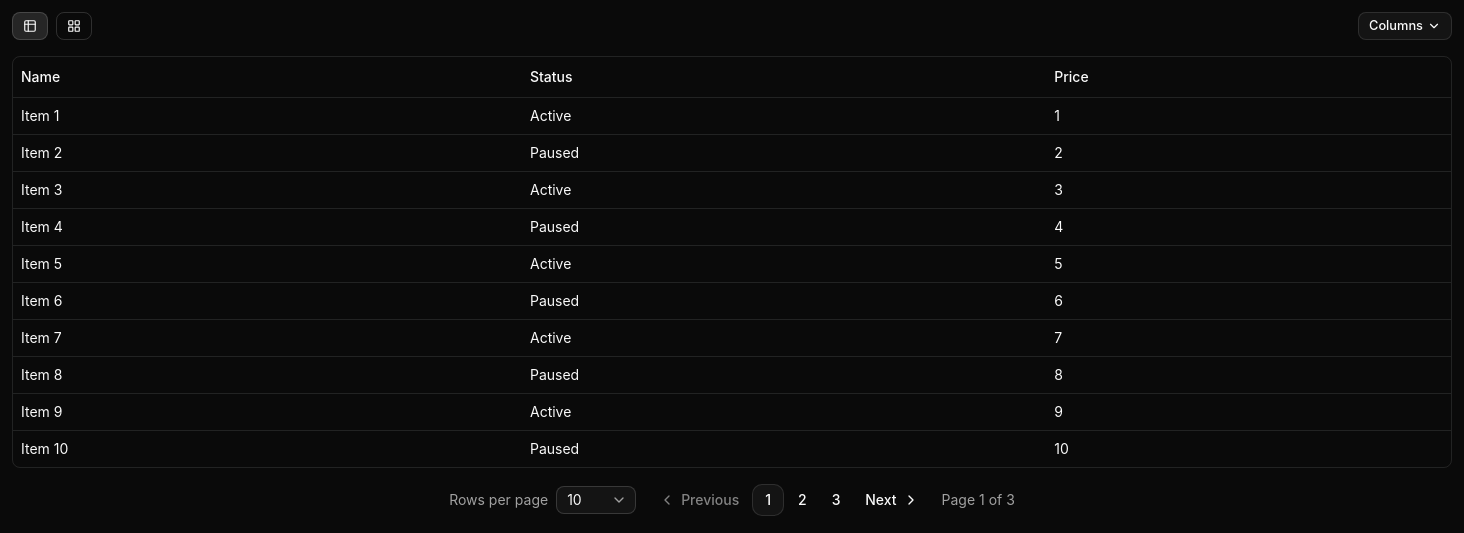
CollectionView › toggles table columns from the Columns menu
Expected: the column heading "Status" is shown, [522,57,1046,97]
# Base UI menus don't respond to userEvent's pointer sequence in jsdom.
Click the button "Columns" at coordinates (1405, 26), box [1358,12,1452,40]
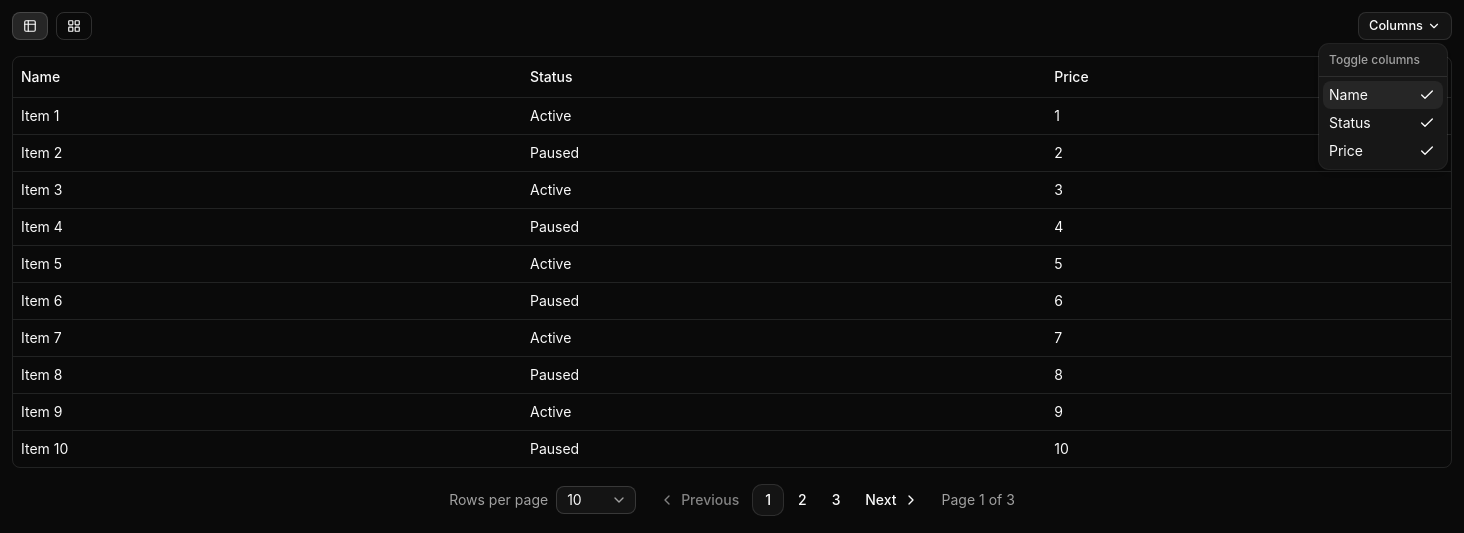
Click the menu item "Status" at coordinates (1350, 122), box [1323,109,1443,137]
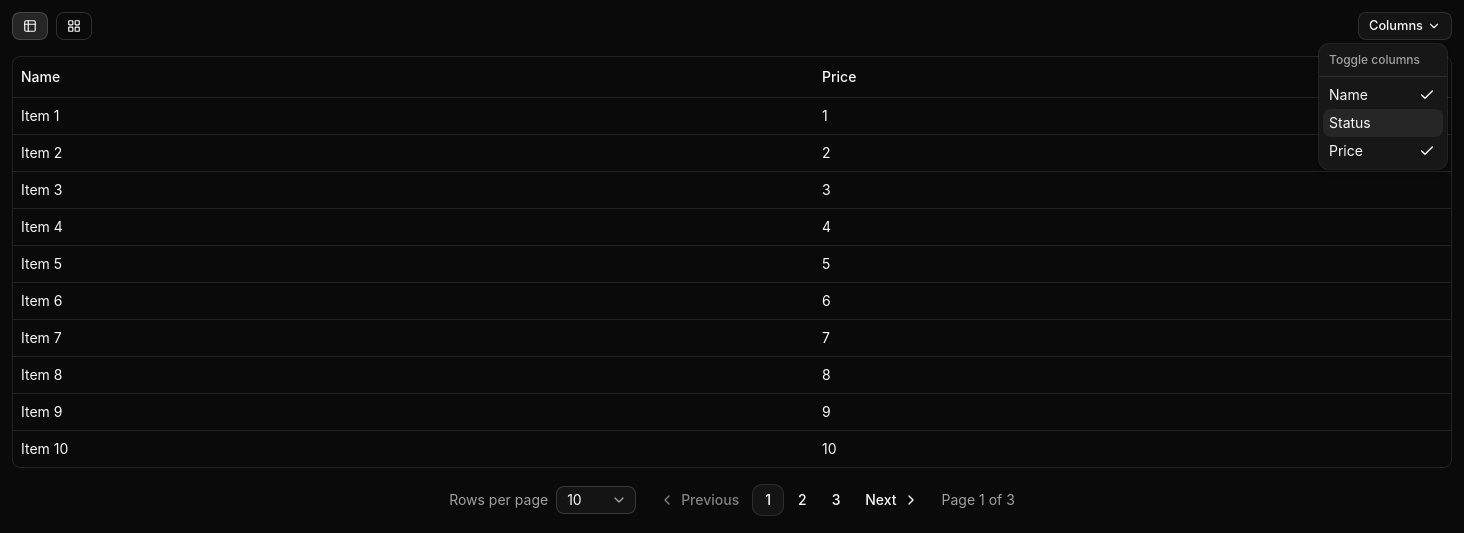
Press Escape
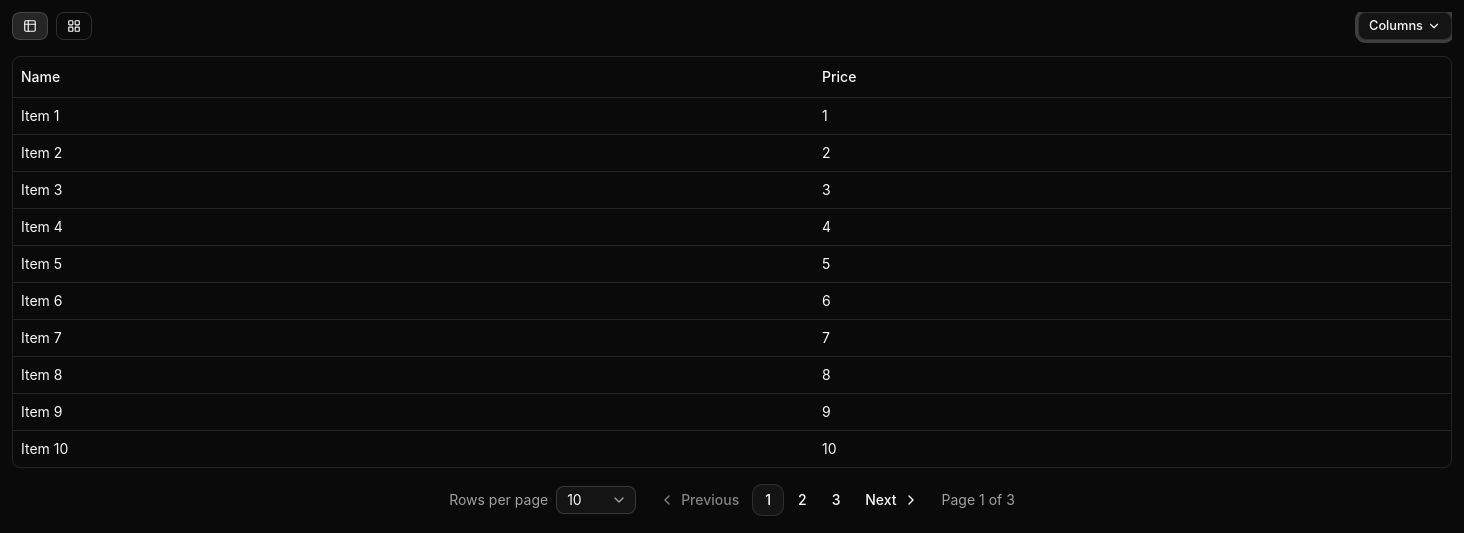
Expected: the column heading "Name" is shown, [13,57,814,97]
Expected: the menu item "Status" is gone
